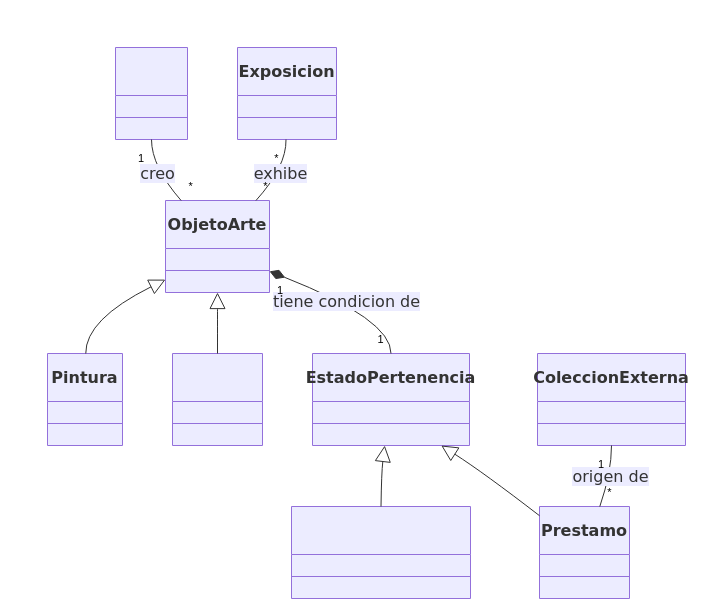
This 706x616 diagram has some shape labels left out. The centre of each missing label's shape, as x and y in pixels:
"Artista" goes at point 151,93.
"ColeccionPermanente" goes at point 380,552.
"Escultura" goes at point 217,399.
